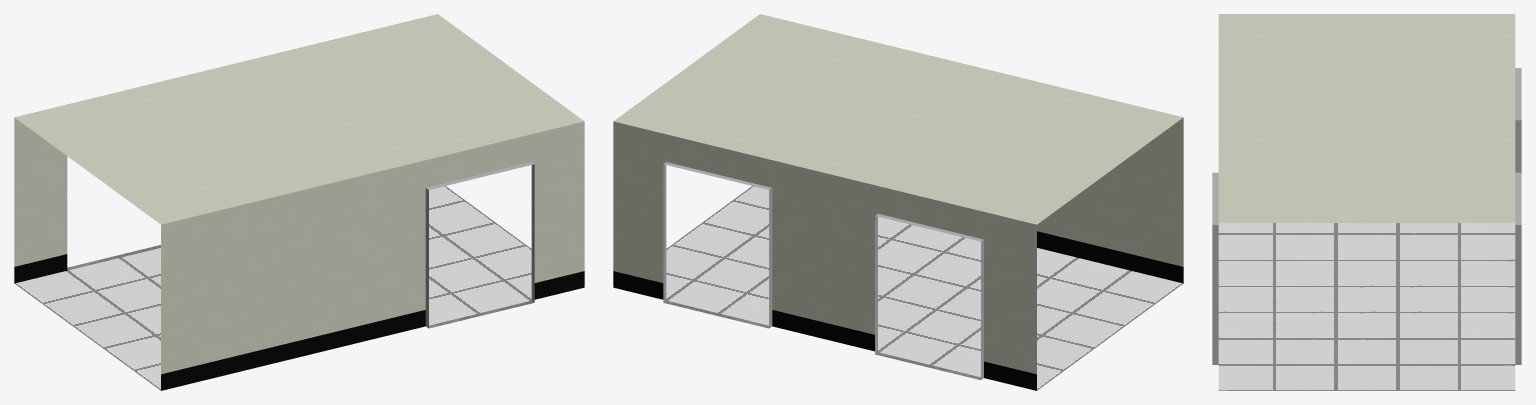
File: ElevatorCorridor.glb
3 renders of one model, left to right at view 1: azimuth 30°, elevation 25°; view 2: azimuth 150°, elevation 25°; view 3: azimuth 270°, elevation 25°, orthographic.
Visible parts, largest first — view 1: ElevatorCorridor; view 2: ElevatorCorridor; view 3: ElevatorCorridor.
Boxes of the visible parts, x1,y1,x2,y2 form: ElevatorCorridor: (14, 14, 584, 390); ElevatorCorridor: (613, 14, 1183, 390); ElevatorCorridor: (1212, 14, 1521, 390).
Bounding box in the file's own units: 8 × 3 × 5.
5 materials, 3 textured.
